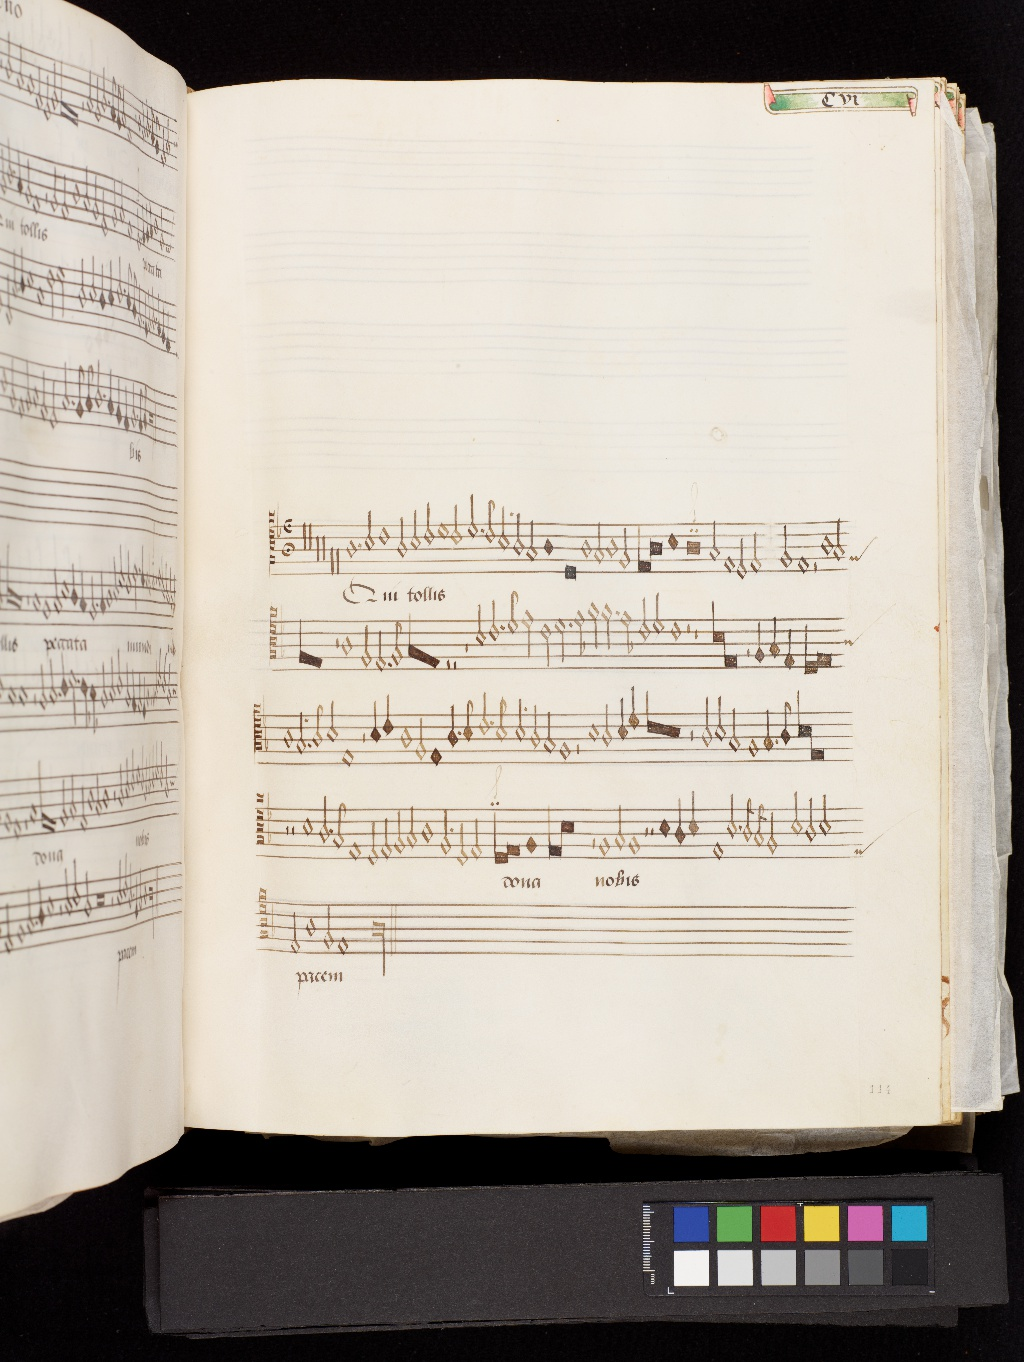c clef_7: (250, 780, 266, 851)
colored semibreve_6: (655, 811, 673, 845)
colored semibreve_9: (522, 827, 539, 860)
congruence: (487, 774, 501, 809)
custos_10: (847, 832, 895, 874)
flat_4: (264, 789, 274, 825)
flat_8: (264, 819, 273, 849)
fusa_8: (335, 795, 346, 853)
l1colored semibreve_10: (544, 803, 560, 859)
l1colored semibreve_11: (490, 807, 506, 870)
l2colored breve_10: (504, 838, 520, 861)
l2colored semibreve_6: (557, 815, 574, 856)
minim rest: (288, 801, 299, 859), (588, 805, 598, 864), (648, 797, 656, 863), (640, 800, 649, 865), (283, 798, 291, 861)
minim_10: (379, 811, 393, 863), (469, 813, 484, 861)
minim_11: (365, 814, 381, 868), (454, 815, 468, 866)
minim_6: (788, 786, 803, 841), (723, 788, 737, 845), (817, 788, 833, 839)
minim_7: (802, 791, 817, 846), (317, 791, 330, 847)
minim_8: (404, 800, 419, 852), (613, 801, 627, 856)
minim_9: (437, 801, 452, 860), (766, 805, 780, 862), (392, 804, 407, 855)
point: (734, 817, 745, 833), (325, 822, 336, 838), (446, 821, 457, 836)
semibreve_10: (708, 835, 727, 867), (349, 836, 364, 864)
semibreve_6: (301, 809, 315, 843)
semibreve_7: (419, 814, 437, 847)
semibreve_9: (595, 828, 612, 863), (626, 828, 643, 861)
semifusa_7: (742, 793, 756, 847)
semifusa_8: (753, 797, 767, 851)
semiminim_6: (686, 788, 701, 841)
semiminim_7: (672, 792, 686, 851)
